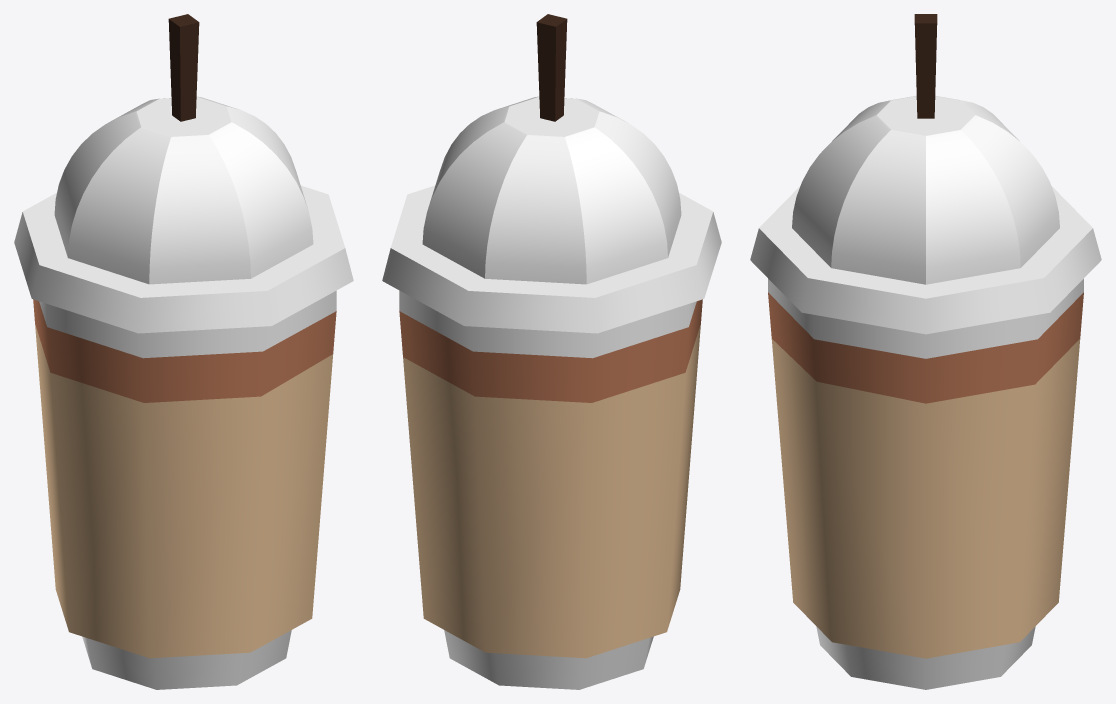
File: frappe_kenney.glb
3 renders of one model, left to right at view 1: azimuth 30°, elevation 25°; view 2: azimuth 150°, elevation 25°; view 3: azimuth 270°, elevation 25°, orthographic.
Visible parts, largest first — view 1: frappe, straw; view 2: frappe, straw; view 3: frappe, straw.
Boxes of the visible parts, bbox=[...] form: frappe: bbox=[14, 96, 353, 689]; straw: bbox=[168, 14, 199, 121]; frappe: bbox=[382, 96, 721, 689]; straw: bbox=[536, 14, 567, 121]; frappe: bbox=[750, 96, 1101, 689]; straw: bbox=[914, 14, 937, 118].
Bounding box in the file's own units: 0.2541 × 0.4993 × 0.2541.
